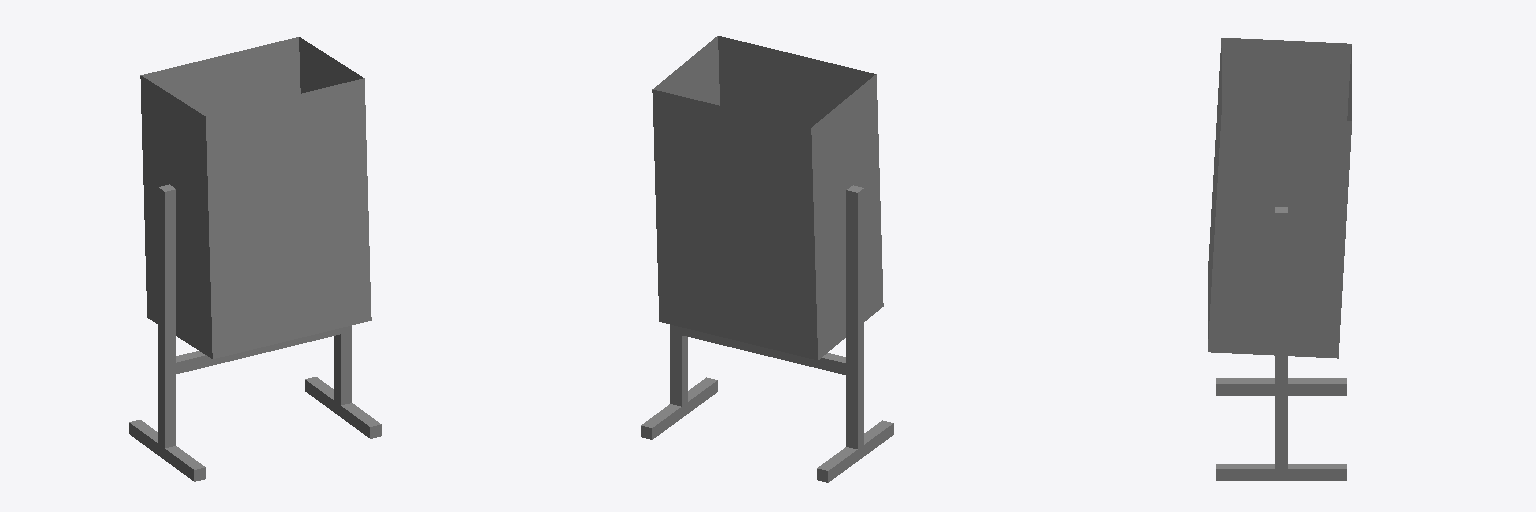
The model's file is bote1.obj.
3 renders of one model, left to right at view 1: azimuth 30°, elevation 25°; view 2: azimuth 150°, elevation 25°; view 3: azimuth 270°, elevation 25°, orthographic.
Parts seen in each view (by area): view 1: cara, cuerpo, patas; view 2: cuerpo, patas; view 3: cuerpo, patas, cara.
Part boxes in pixels (left/top/right/bottom): cara: left=206, top=78, right=371, bottom=358; cuerpo: left=140, top=37, right=363, bottom=358; patas: left=129, top=184, right=381, bottom=481; cuerpo: left=652, top=36, right=883, bottom=359; patas: left=641, top=185, right=893, bottom=482; cuerpo: left=1208, top=38, right=1351, bottom=358; patas: left=1216, top=207, right=1346, bottom=480; cara: left=1208, top=53, right=1220, bottom=338.
Size of the model in its own units: 0.33 by 0.605 by 0.2206.